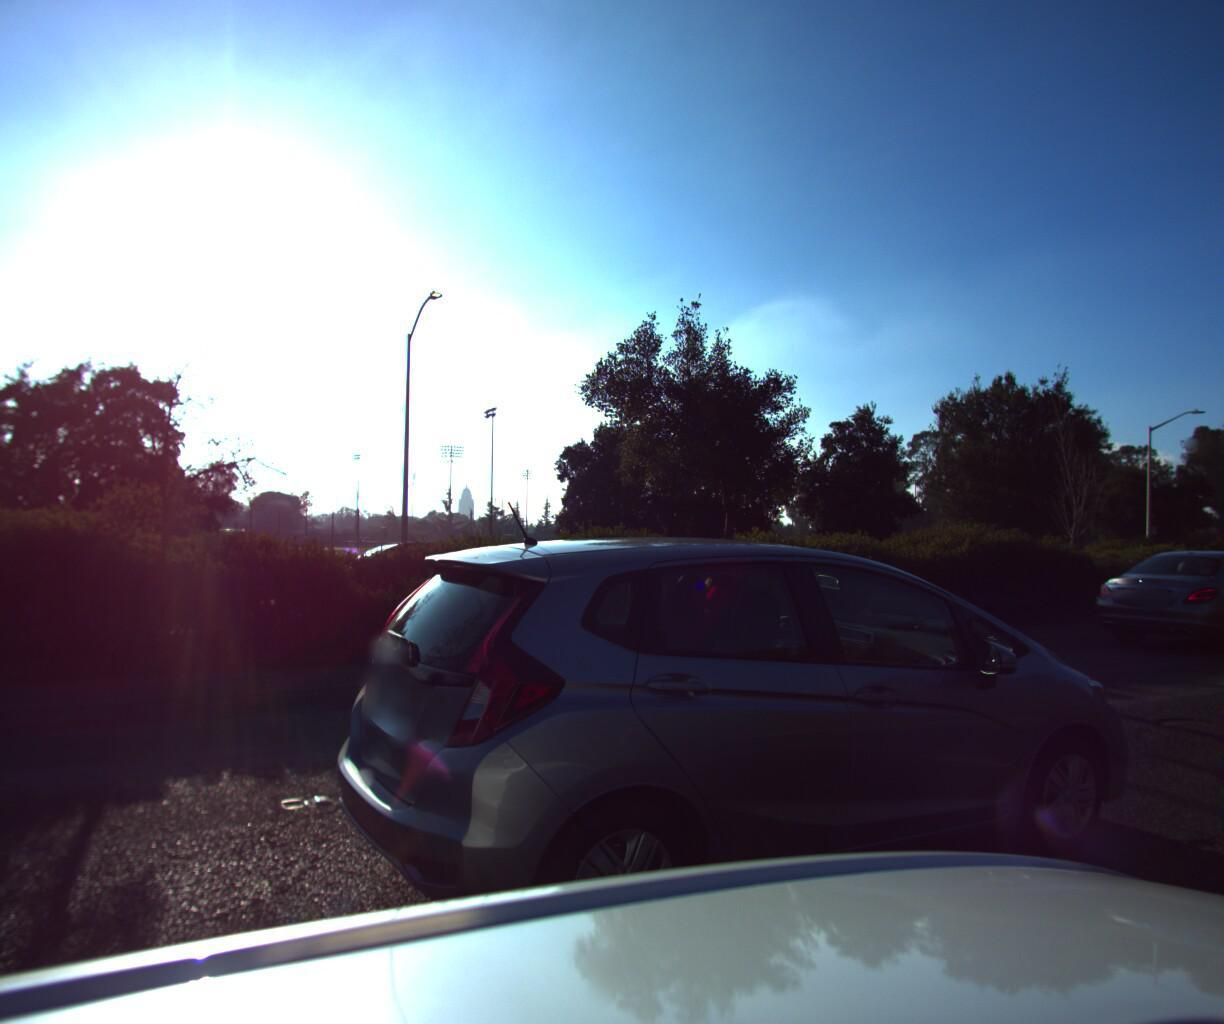car: (287, 534, 1143, 1024), (285, 523, 501, 625), (1077, 541, 1224, 653)
